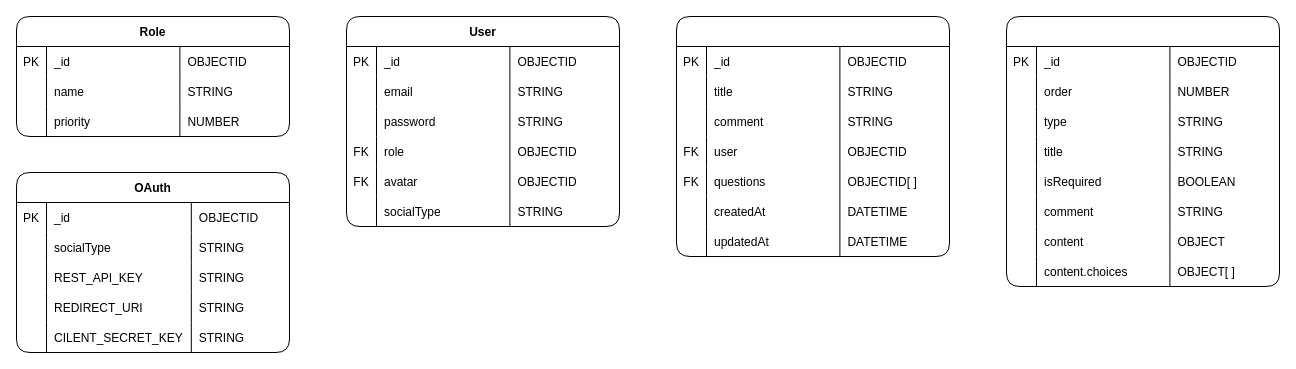
Some shapes in this 1296 by 369 pixel diagram are drawn without their labels. Here are the shapes that lost their labels. From the top down, the box of each, then its label:
(676, 16, 950, 256): Survey
(1006, 16, 1280, 286): Question
